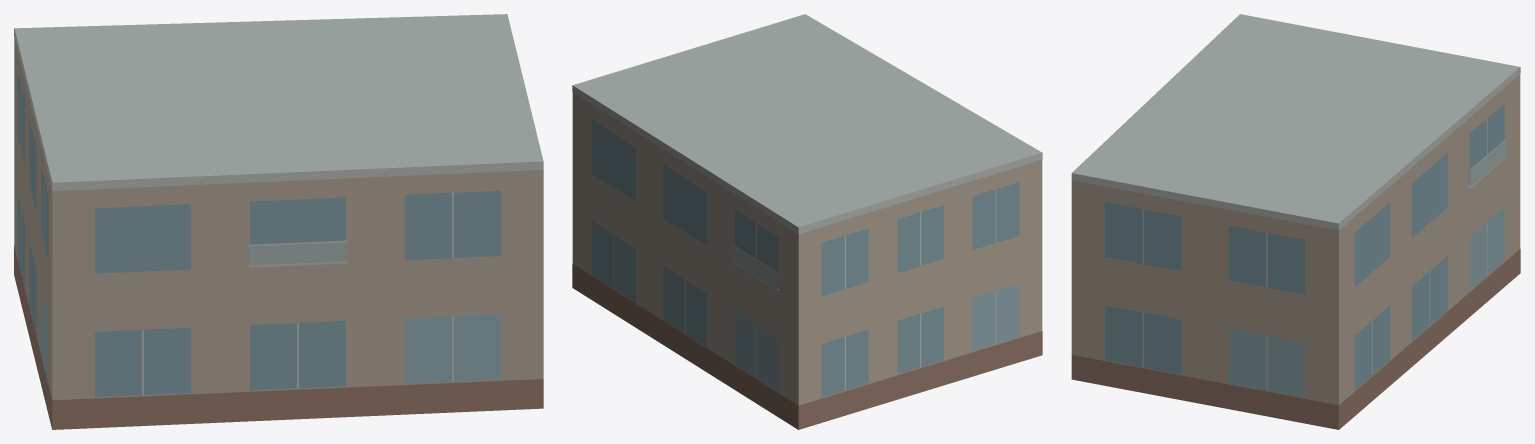
Rendered from survey-upis-32970527.glb.
3 views of the same model, side by side, from view 1: azimuth 30°, elevation 25°; view 2: azimuth 150°, elevation 25°; view 3: azimuth 270°, elevation 25° (orthographic). The views are drawn at different scales.
Parts seen in each view (by area): view 1: survey-upis-32970527.tmp; view 2: survey-upis-32970527.tmp; view 3: survey-upis-32970527.tmp.
Part boxes in pixels (x1,y1,x2,y2): survey-upis-32970527.tmp: [14, 14, 543, 429]; survey-upis-32970527.tmp: [572, 14, 1042, 429]; survey-upis-32970527.tmp: [1071, 14, 1520, 429].
Bounding box in the file's own units: 15.69 × 7.2 × 14.21.
